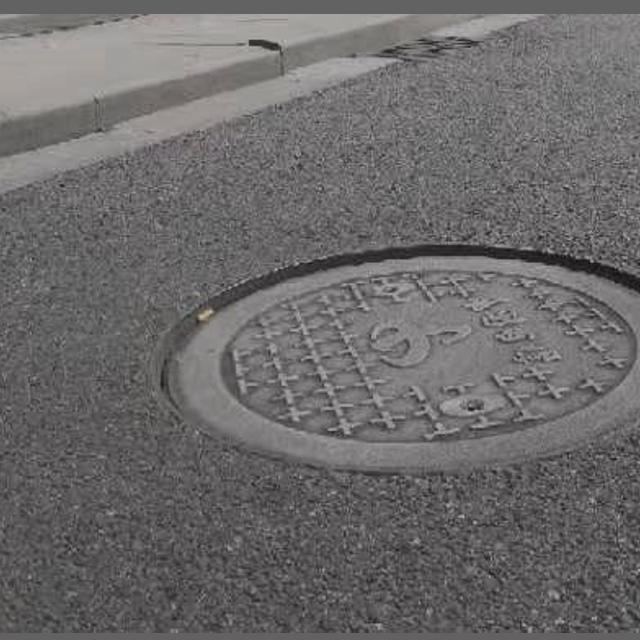good: (130, 225, 640, 501)
